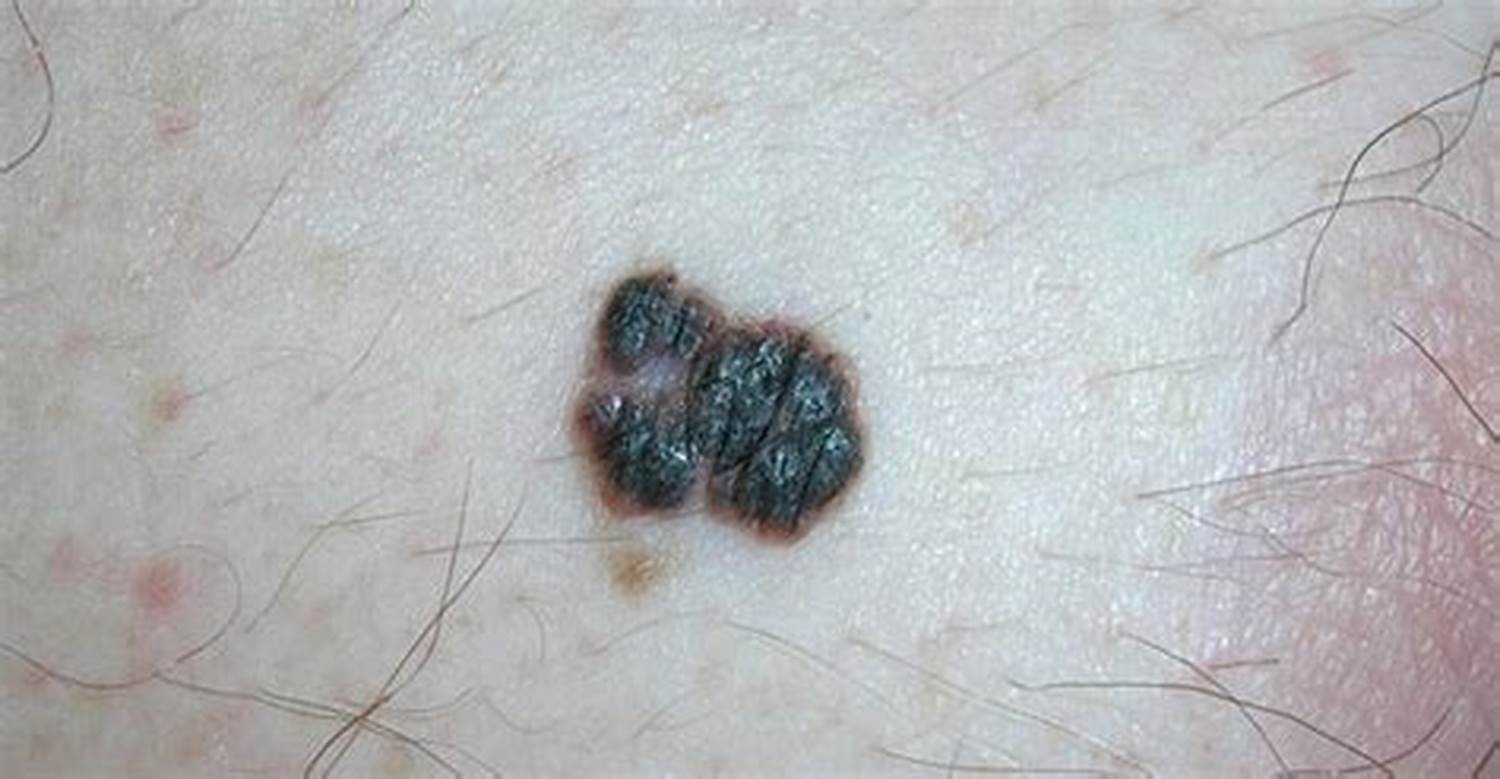Melanoma: (575, 269, 868, 549)
